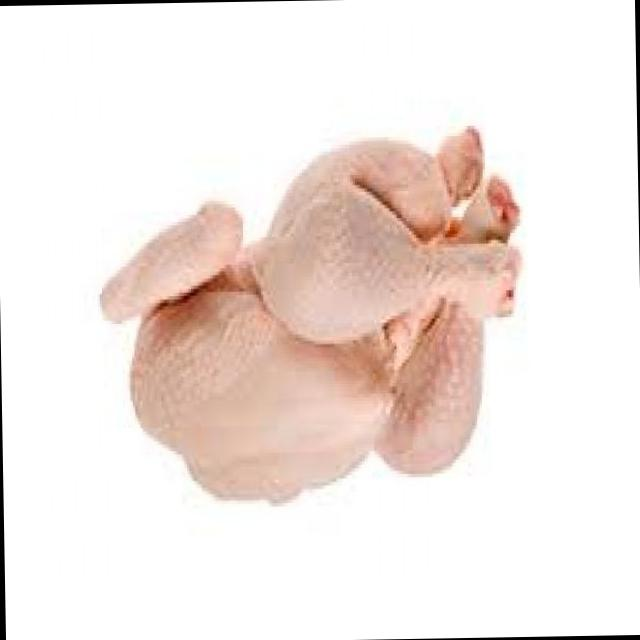chicken: (85, 118, 532, 526)
